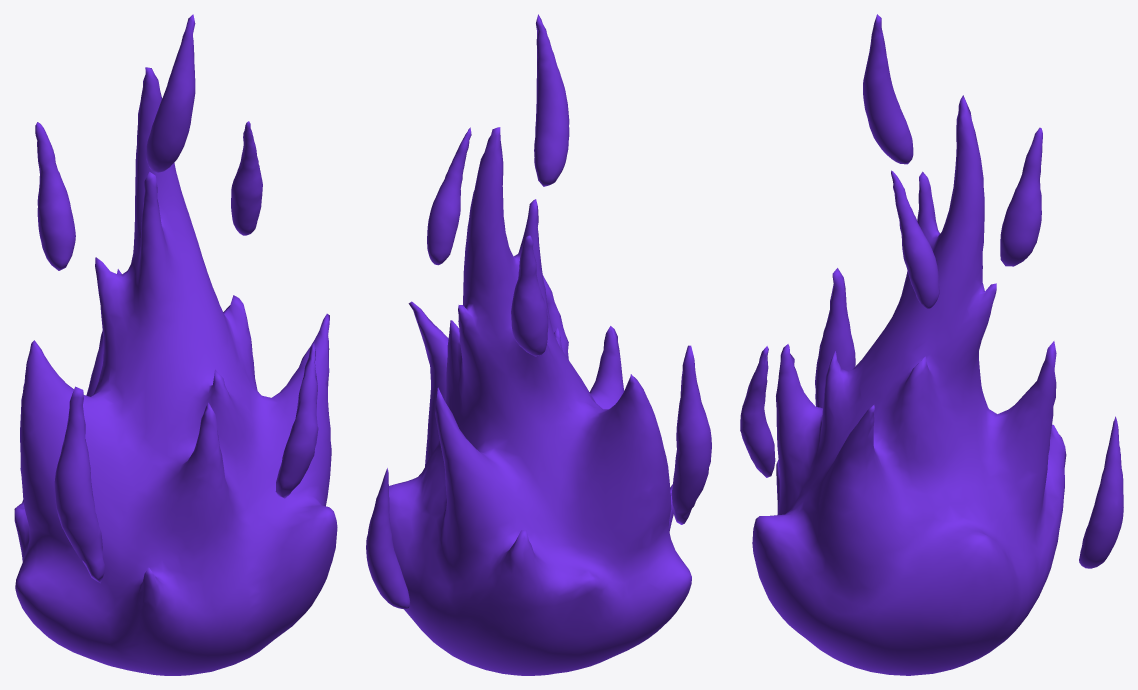
File: purplefire.fbx
3 views of the same model, side by side, from view 1: azimuth 30°, elevation 25°; view 2: azimuth 150°, elevation 25°; view 3: azimuth 270°, elevation 25° (orthographic). The views are drawn at different scales.
Visible parts, largest first — view 1: fire big_8, Sphere.004_6, Sphere.003_5, Sphere.001_3, Sphere_2, Sphere.002_4; view 2: fire big_8, Sphere.004_6, Sphere.003_5, Sphere.005_7, Sphere.001_3, Sphere.002_4, Sphere_2; view 3: fire big_8, Sphere.003_5, Sphere.001_3, Sphere.005_7, Sphere.002_4, Sphere.004_6, Sphere_2.
Part boxes in pixels (box(x1,y1,x2,y2)): fire big_8: box(14, 67, 337, 675); Sphere.004_6: box(54, 386, 104, 583); Sphere.003_5: box(146, 14, 195, 172); Sphere.001_3: box(35, 122, 75, 270); Sphere_2: box(275, 343, 318, 498); Sphere.002_4: box(231, 121, 262, 235); fire big_8: box(389, 127, 691, 675); Sphere.004_6: box(671, 345, 711, 524); Sphere.003_5: box(534, 14, 569, 186); Sphere.005_7: box(366, 468, 409, 609); Sphere.001_3: box(511, 235, 548, 356); Sphere.002_4: box(427, 127, 471, 265); Sphere_2: box(542, 275, 568, 359); fire big_8: box(752, 95, 1066, 675); Sphere.003_5: box(863, 14, 913, 164); Sphere.001_3: box(1000, 127, 1042, 266); Sphere.005_7: box(1079, 416, 1123, 568); Sphere.002_4: box(891, 170, 939, 309); Sphere.004_6: box(815, 268, 855, 408); Sphere_2: box(740, 346, 775, 477).
Size of the model in its own units: 354 by 737 by 395.
